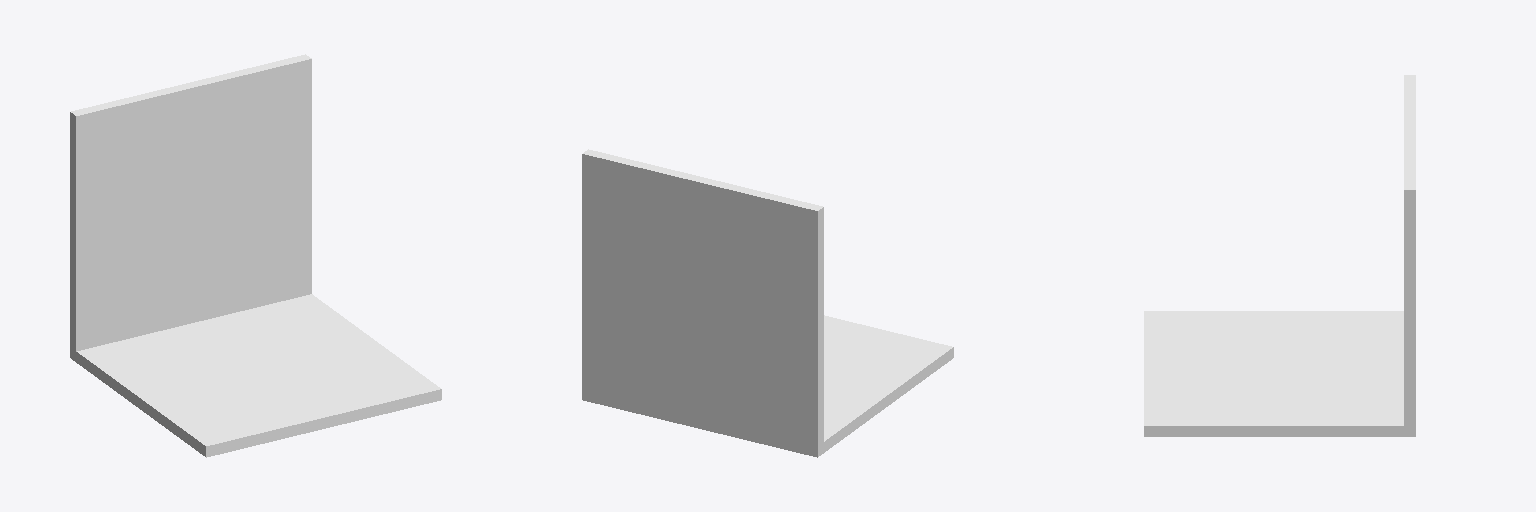
File: mesh_hanger_floor_straight_wall.obj
3 renders of one model, left to right at view 1: azimuth 30°, elevation 25°; view 2: azimuth 150°, elevation 25°; view 3: azimuth 270°, elevation 25°, orthographic.
Parts seen in each view (by area): view 1: object 1; view 2: object 1; view 3: object 1.
Boxes of the visible parts, x1,y1,x2,y2 form: object 1: [70, 54, 441, 457]; object 1: [582, 149, 953, 457]; object 1: [1144, 75, 1415, 436].
Size of the model in its own units: 4.4 by 4.4 by 4.4.